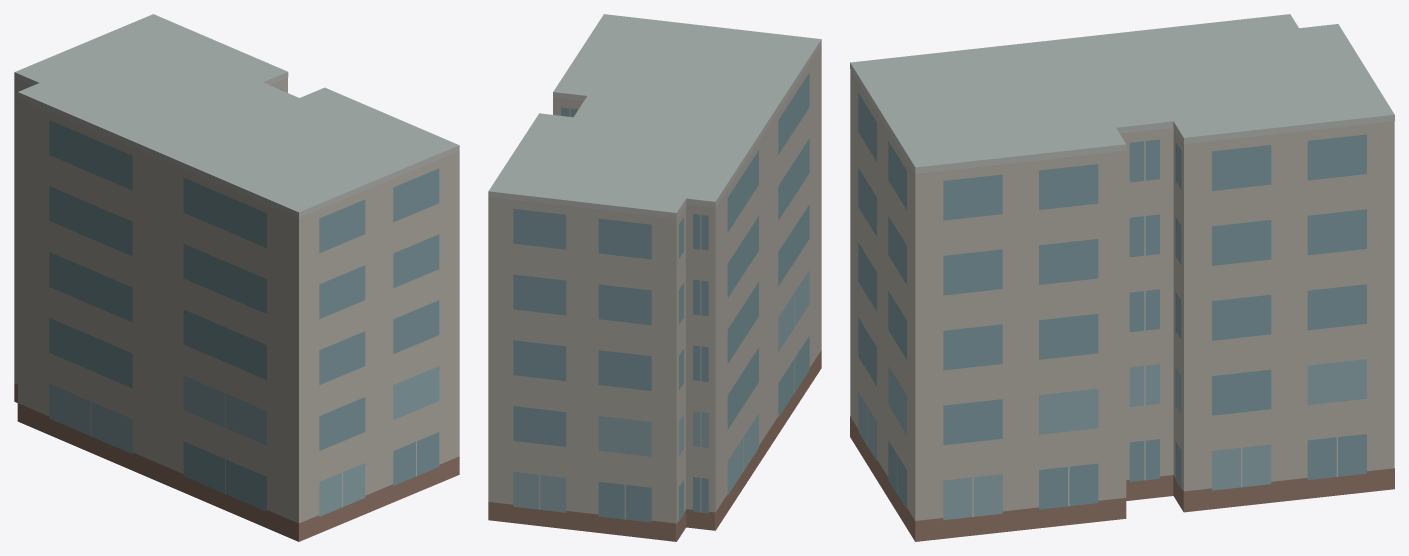
The model's file is survey-upis-33013540.glb.
The picture shows the model from 3 angles, left to right: view 1: azimuth 30°, elevation 25°; view 2: azimuth 150°, elevation 25°; view 3: azimuth 270°, elevation 25°; orthographic projection. The views are drawn at different scales.
Visible parts, largest first — view 1: survey-upis-33013540.tmp; view 2: survey-upis-33013540.tmp; view 3: survey-upis-33013540.tmp.
Boxes of the visible parts, x1,y1,x2,y2 form: survey-upis-33013540.tmp: [14, 14, 459, 541]; survey-upis-33013540.tmp: [488, 14, 821, 541]; survey-upis-33013540.tmp: [850, 14, 1394, 541].
Bounding box in the file's own units: 12.58 × 14.3 × 18.86.
